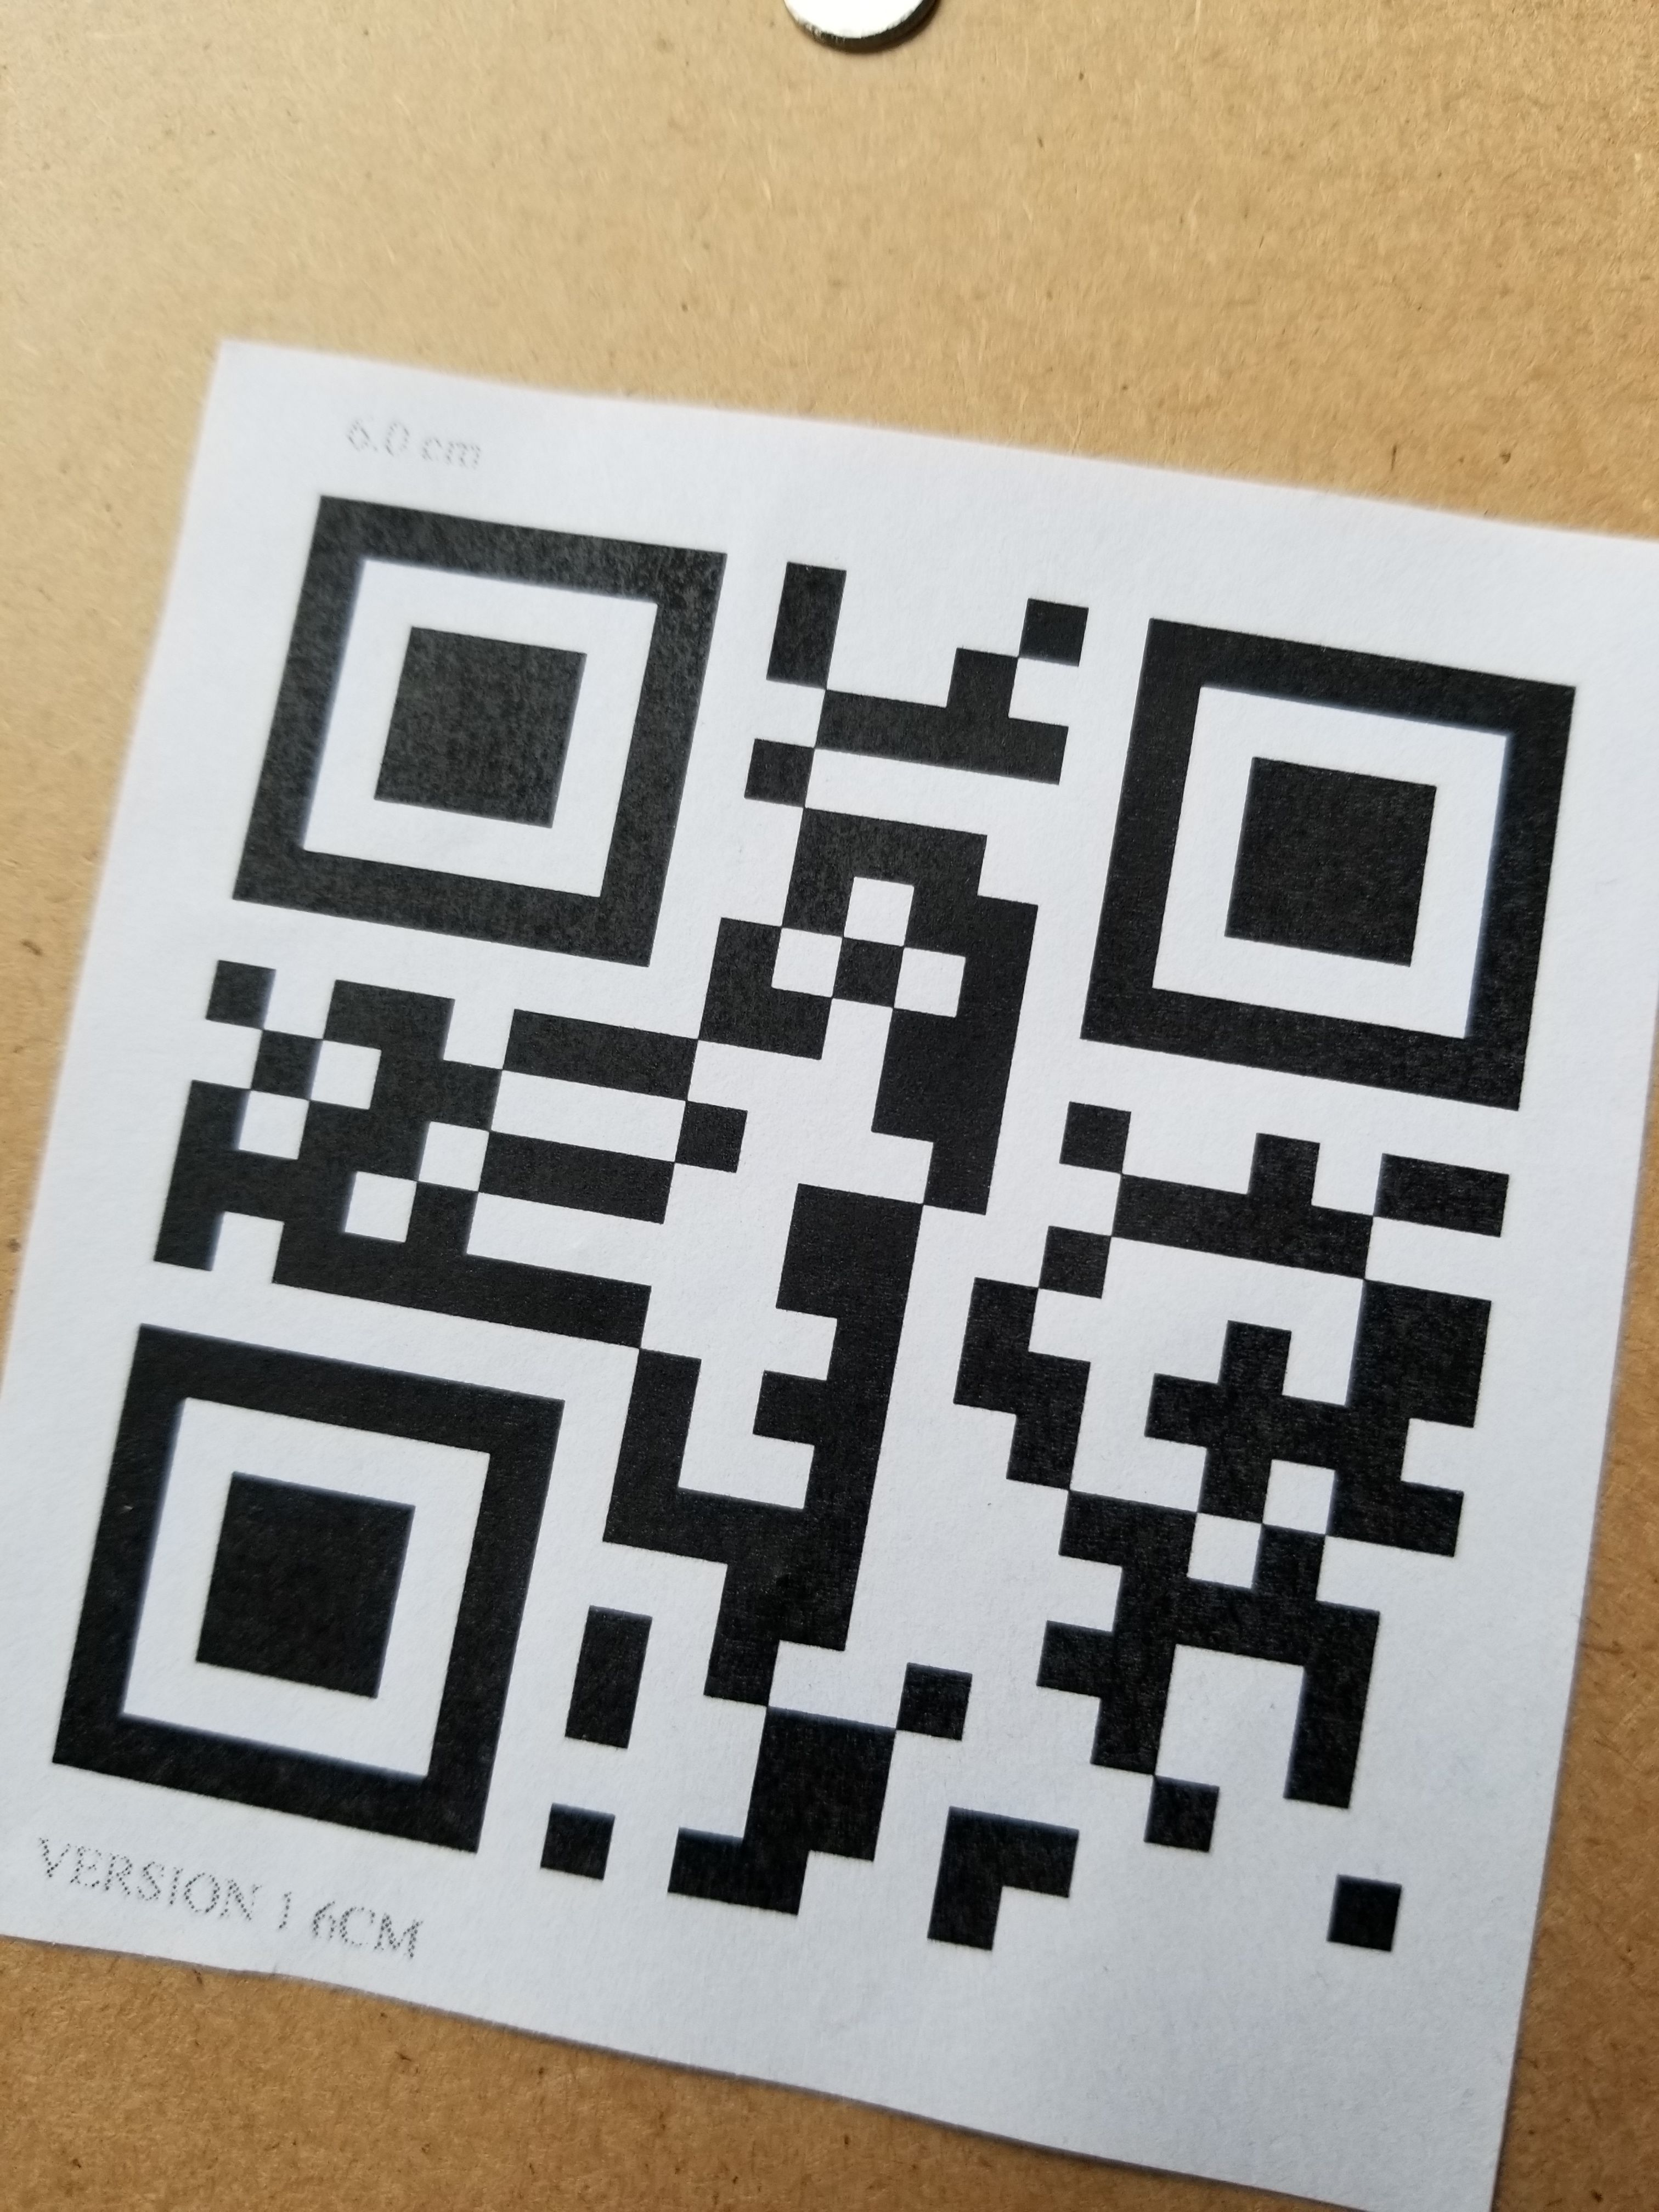QR_CODE: (33, 408, 1598, 2036)
